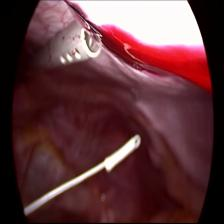Irrigator: (40, 19, 102, 81)
